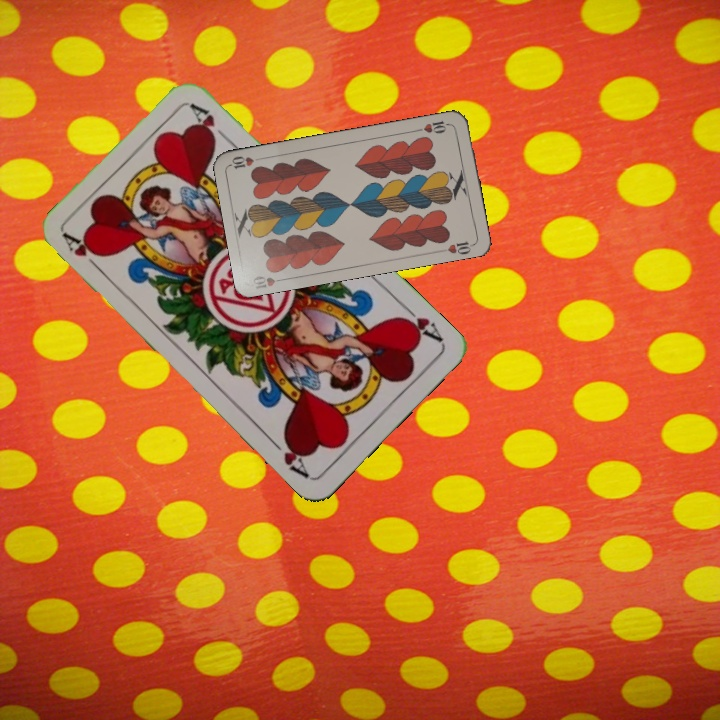H10: (413, 116, 453, 136), (249, 272, 289, 291)
HA: (393, 299, 446, 344), (59, 229, 107, 277)
